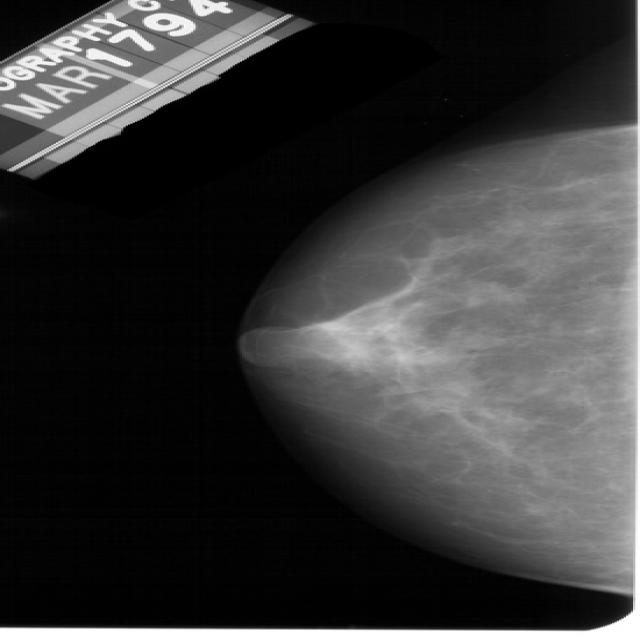tumour: (458, 331, 505, 349)
